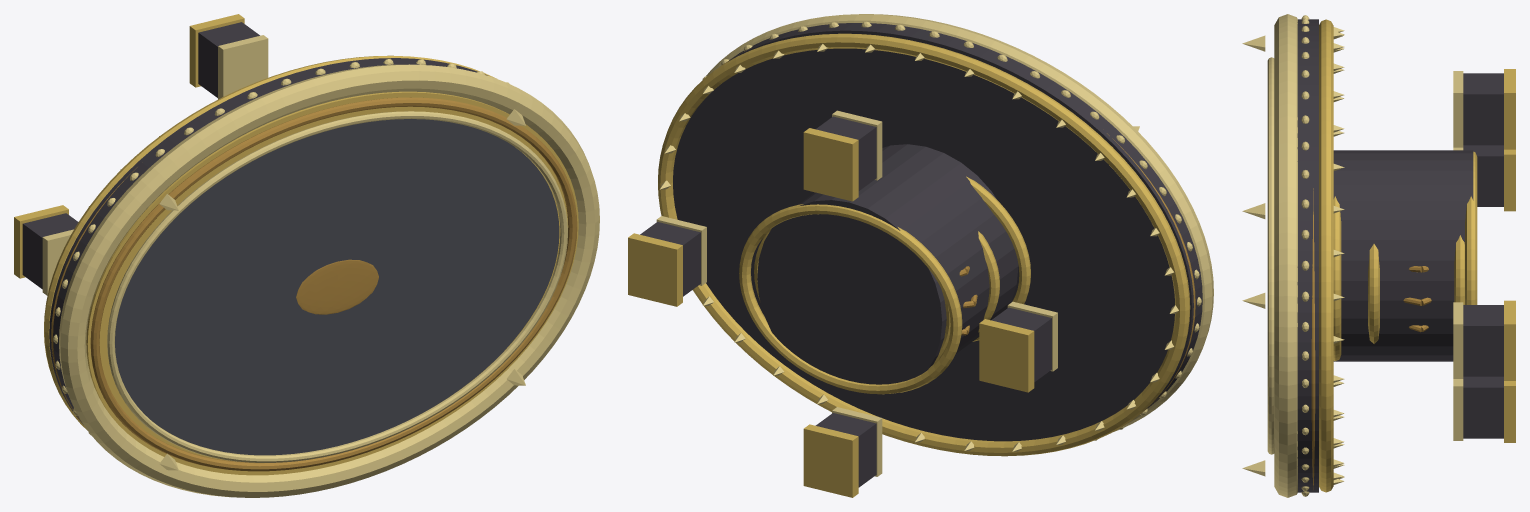
File: table_royal_obsidian.glb
3 views of the same model, side by side, from view 1: azimuth 30°, elevation 25°; view 2: azimuth 150°, elevation 25°; view 3: azimuth 270°, elevation 25° (orthographic).
Parts seen in each view (by area): view 1: world; view 2: world; view 3: world.
Part boxes in pixels (x1=…): world: x1=14, y1=14, x2=599, y2=497; world: x1=628, y1=14, x2=1213, y2=497; world: x1=1242, y1=14, x2=1515, y2=497.
Bounding box in the file's own units: 2.85 × 2.09 × 1.27.
